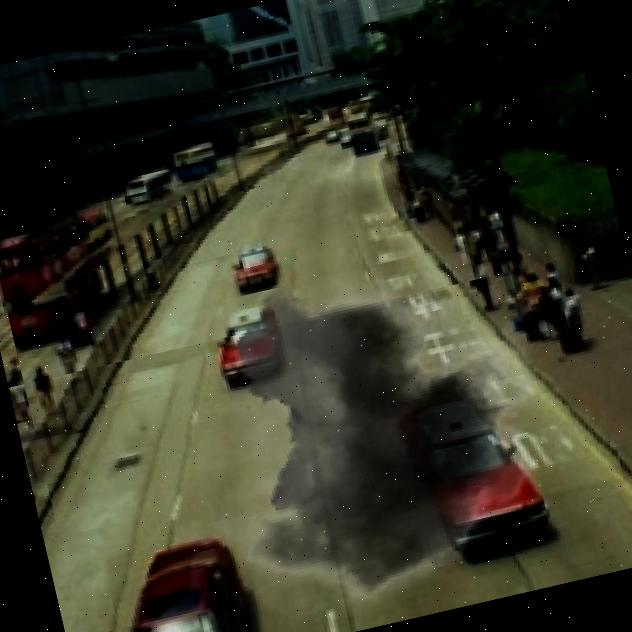smoke: (116, 230, 603, 632)
